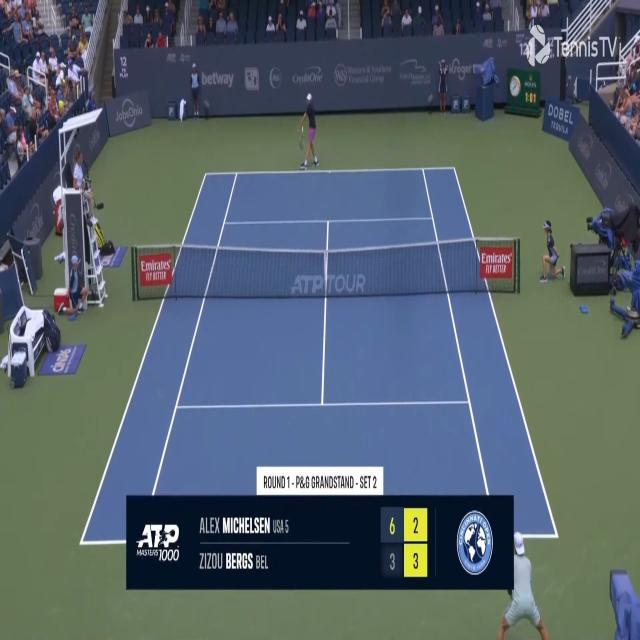tennis-player: (498, 526, 547, 640), (297, 91, 321, 172)
